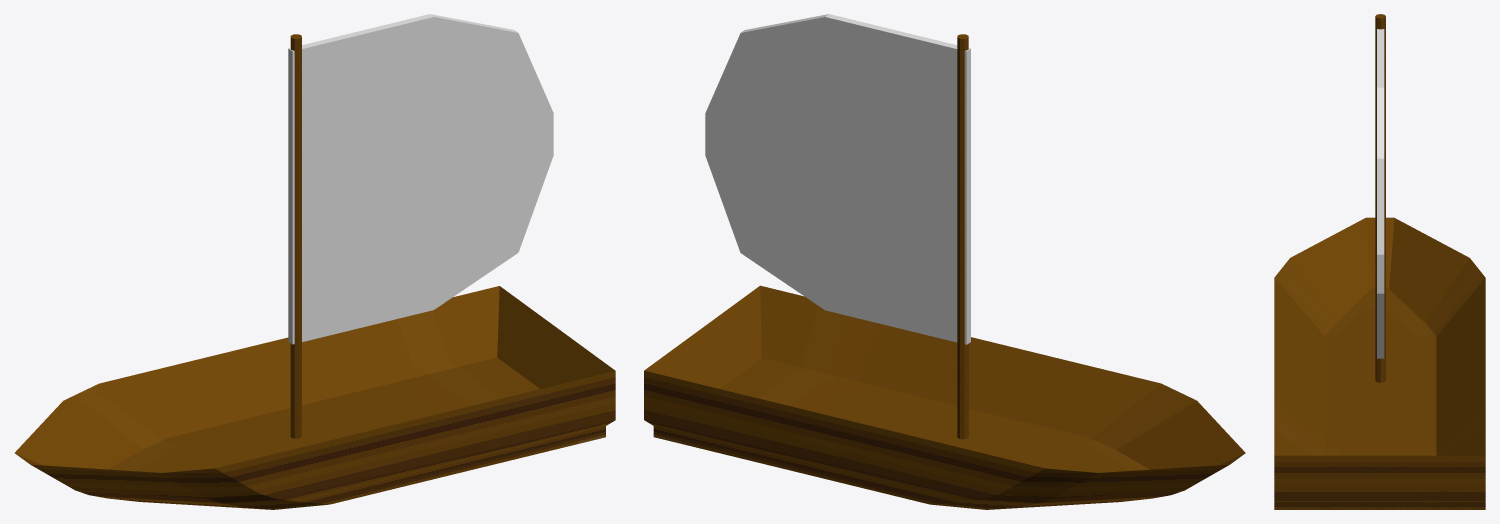
File: Boat2.fbx
3 views of the same model, side by side, from view 1: azimuth 30°, elevation 25°; view 2: azimuth 150°, elevation 25°; view 3: azimuth 270°, elevation 25° (orthographic). The views are drawn at different scales.
Parts seen in each view (by area): view 1: Plane.001; view 2: Plane.001; view 3: Plane.001.
Boxes of the visible parts, box(x1,y1,x2,y2) form: Plane.001: box(15, 14, 615, 509); Plane.001: box(644, 14, 1245, 509); Plane.001: box(1274, 14, 1485, 509).
Size of the model in its own units: 681 by 510 by 256.
Materials: 2 (1 with a texture image).
